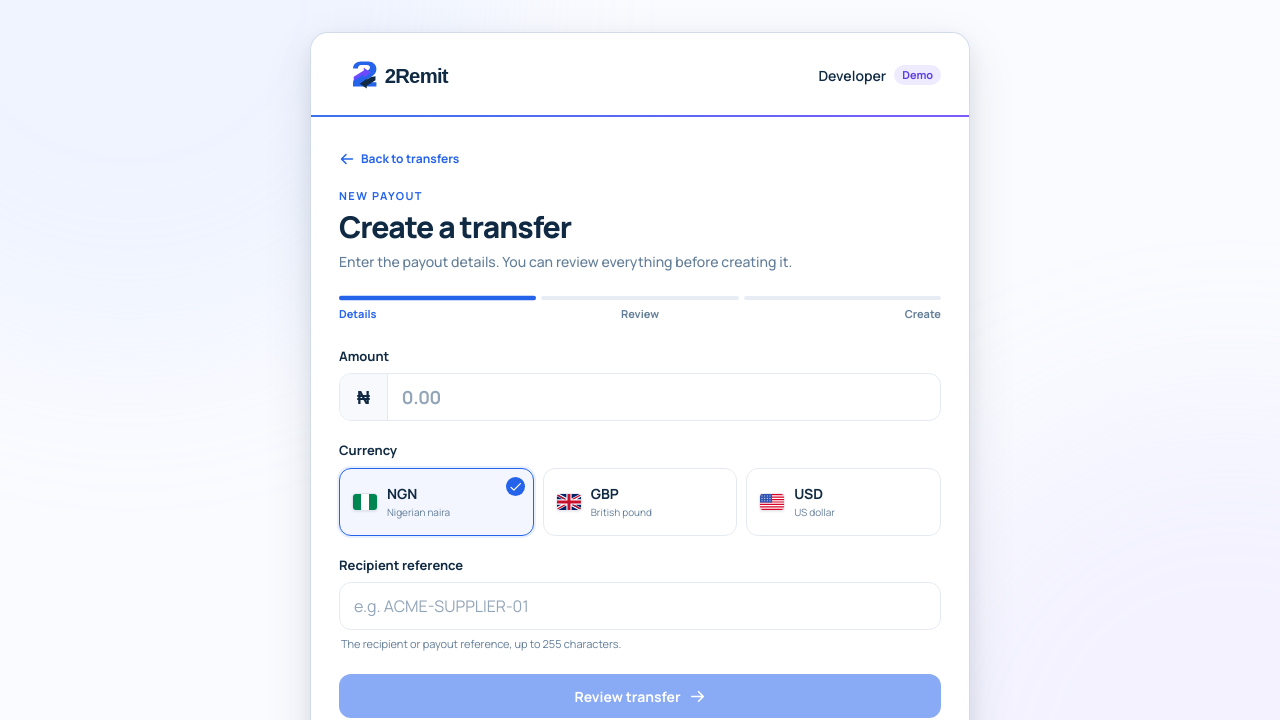
CreateTransferScreen › formats the amount with bank-style thousands separators
Type "1250000.50" into the field labelled "Amount" at (664, 398), box [388,374,940,420]
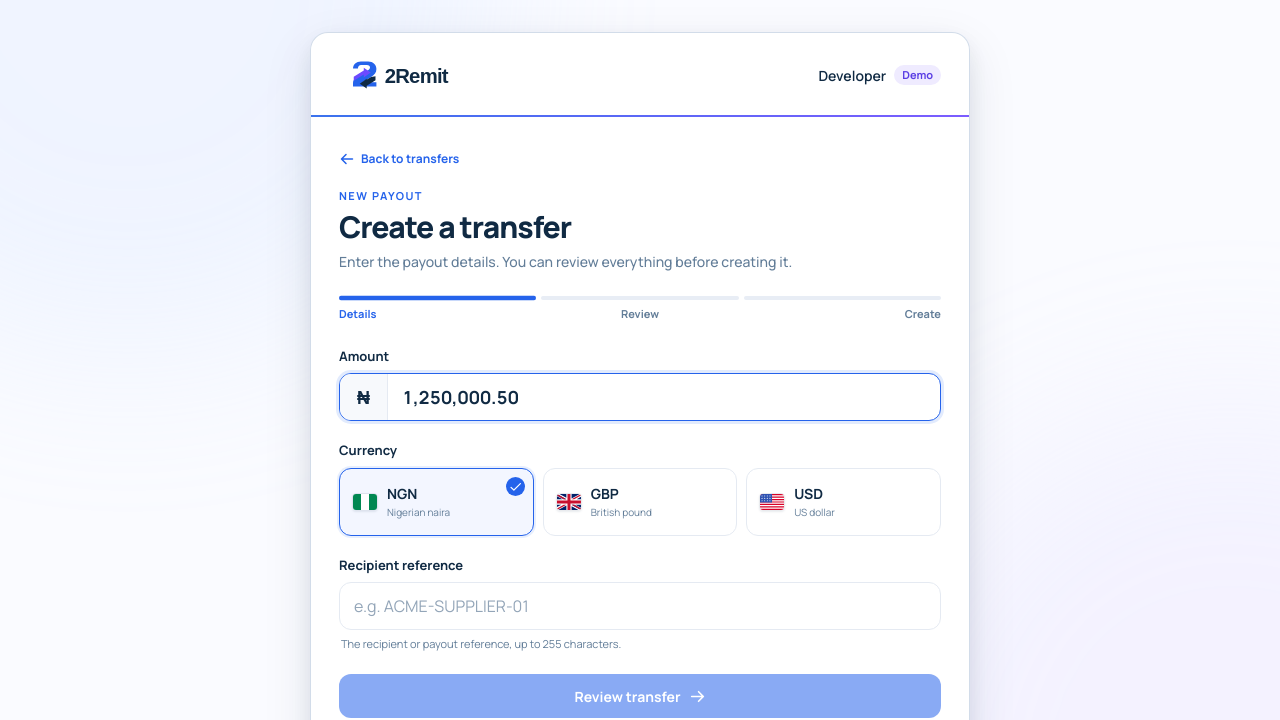
Check: the field labelled "Amount" holds "1,250,000.50", box [388,374,940,420]
